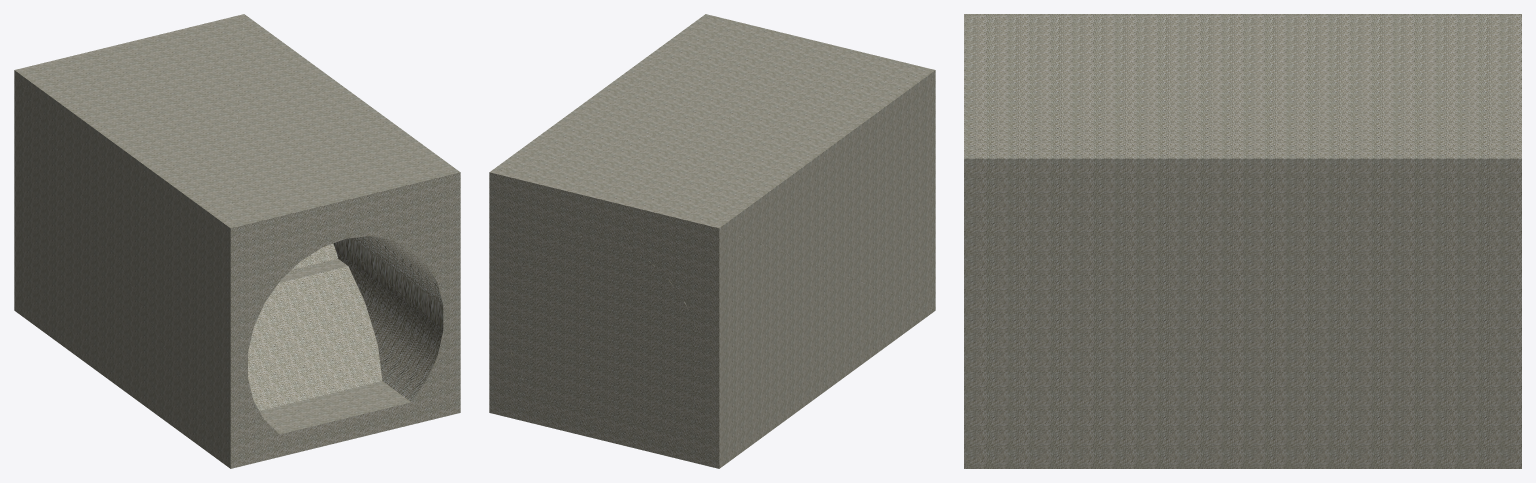
The model's file is ExcavThreeStep1.glb.
The picture shows the model from 3 angles, left to right: view 1: azimuth 30°, elevation 25°; view 2: azimuth 150°, elevation 25°; view 3: azimuth 270°, elevation 25°; orthographic projection. The views are drawn at different scales.
Size of the model in its own units: 16 by 16 by 26.08.
1 material, 1 textured.
